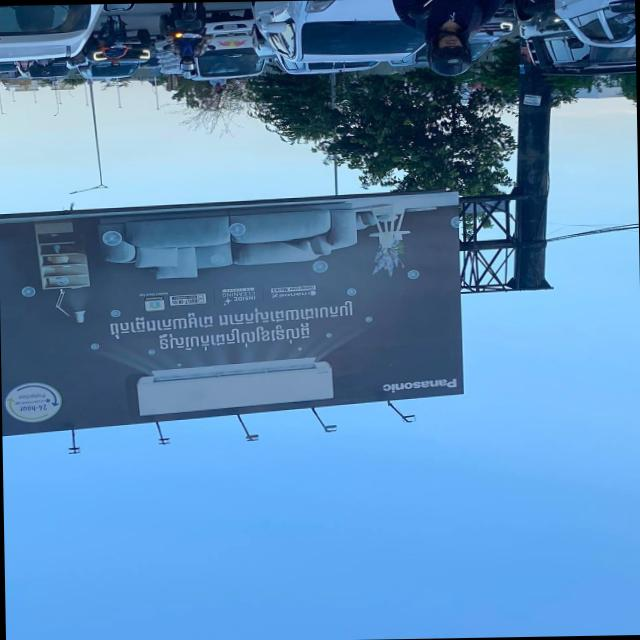1: (100, 296, 357, 339)
666: (33, 403, 49, 413)
Yolov11_80vkh: (155, 320, 311, 353)
